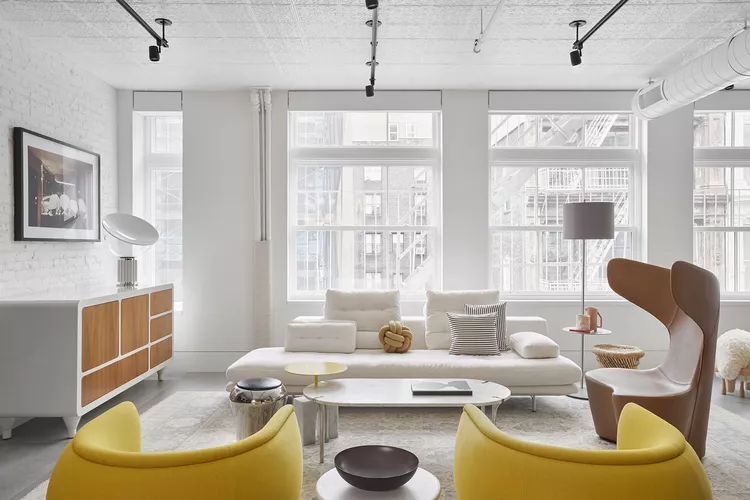chair: (583, 255, 721, 461), (451, 399, 715, 500), (46, 399, 305, 500)
floor lamp: (559, 197, 616, 400)
sofa: (221, 284, 584, 414)
table: (303, 375, 512, 466)
wall art: (10, 124, 103, 245)
